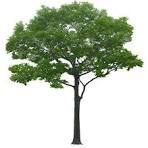plant: (7, 2, 144, 148)
